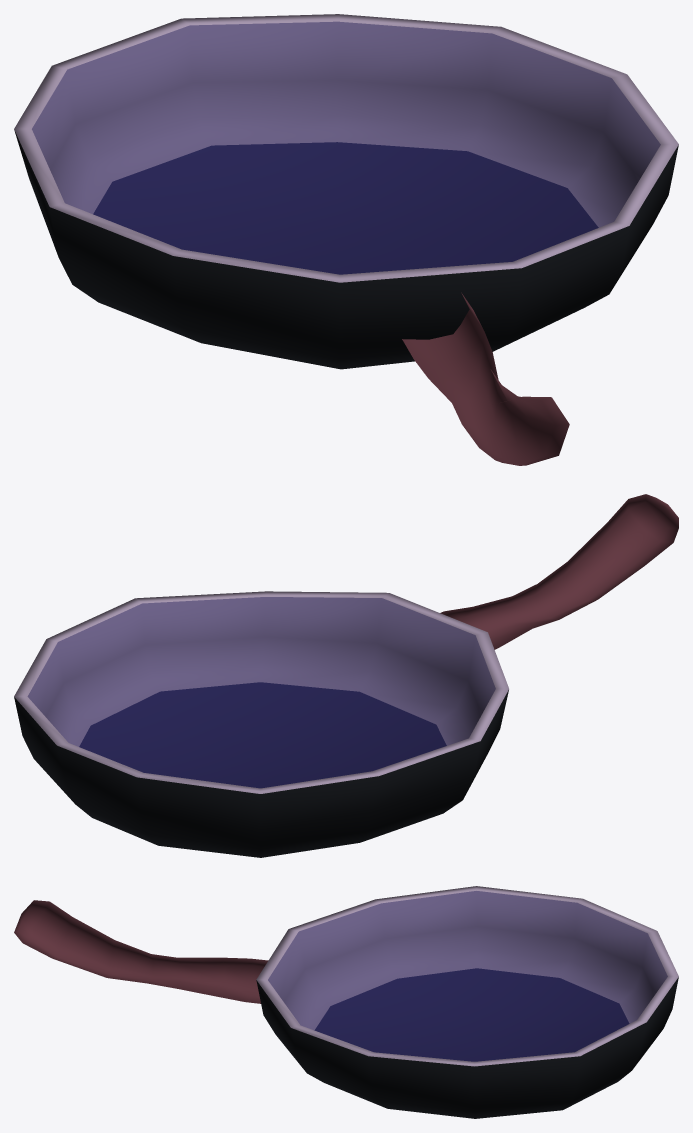
Rendered from frying_pan01.fbx.
3 renders of one model, top to bottom at view 1: azimuth 30°, elevation 25°; view 2: azimuth 150°, elevation 25°; view 3: azimuth 270°, elevation 25°, orthographic. The views are drawn at different scales.
Parts seen in each view (by area): view 1: frying_pan01; view 2: frying_pan01; view 3: frying_pan01.
Boxes of the visible parts, x1,y1,x2,y2 form: frying_pan01: (14,14,678,465); frying_pan01: (14,494,678,857); frying_pan01: (14,886,678,1118).
Bounding box in the file's own units: 57.81 × 14.21 × 92.2.
